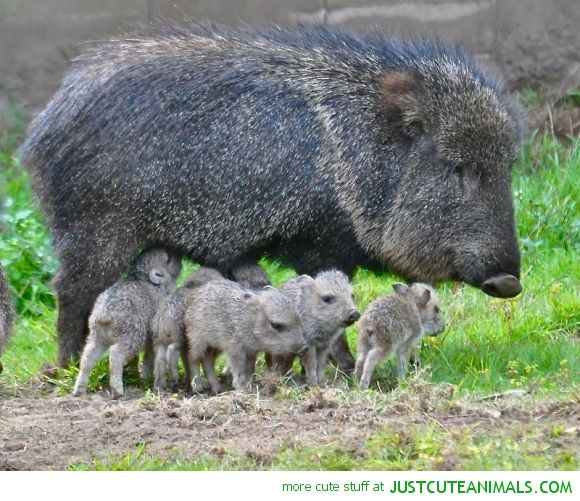javelina: (9, 32, 539, 396), (181, 273, 310, 419), (268, 262, 360, 405), (349, 278, 453, 386)
